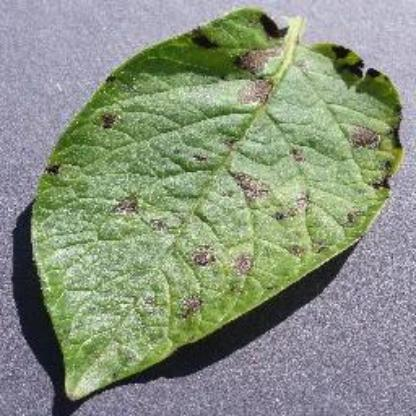Early-Blight: (26, 8, 408, 402)
